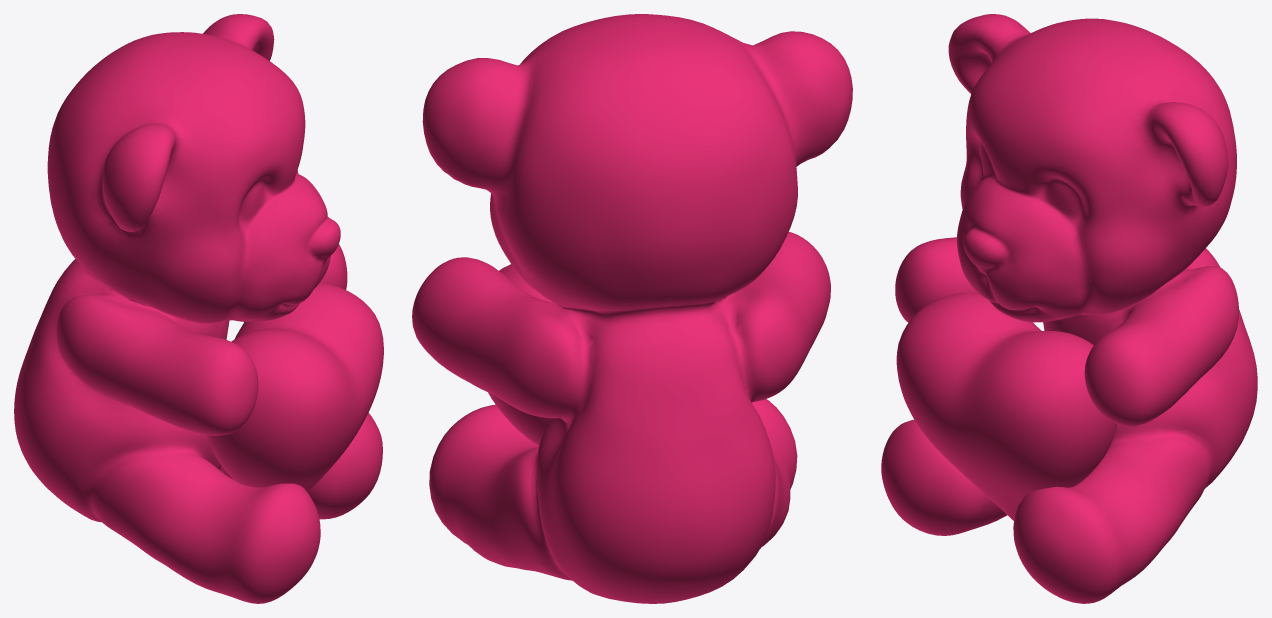
The model's file is tedyy.gltf.
The picture shows the model from 3 angles, left to right: view 1: azimuth 30°, elevation 25°; view 2: azimuth 150°, elevation 25°; view 3: azimuth 270°, elevation 25°; orthographic projection. The views are drawn at different scales.
Visible parts, largest first — view 1: 18845_Teddy_Bear_holding_a_heart_to_chest_new; view 2: 18845_Teddy_Bear_holding_a_heart_to_chest_new; view 3: 18845_Teddy_Bear_holding_a_heart_to_chest_new.
Part boxes in pixels (<box>): 18845_Teddy_Bear_holding_a_heart_to_chest_new: <box>14,14,383,603</box>; 18845_Teddy_Bear_holding_a_heart_to_chest_new: <box>412,14,852,603</box>; 18845_Teddy_Bear_holding_a_heart_to_chest_new: <box>881,14,1257,603</box>.
Bounding box in the file's own units: 2.17 × 3.19 × 2.2.
